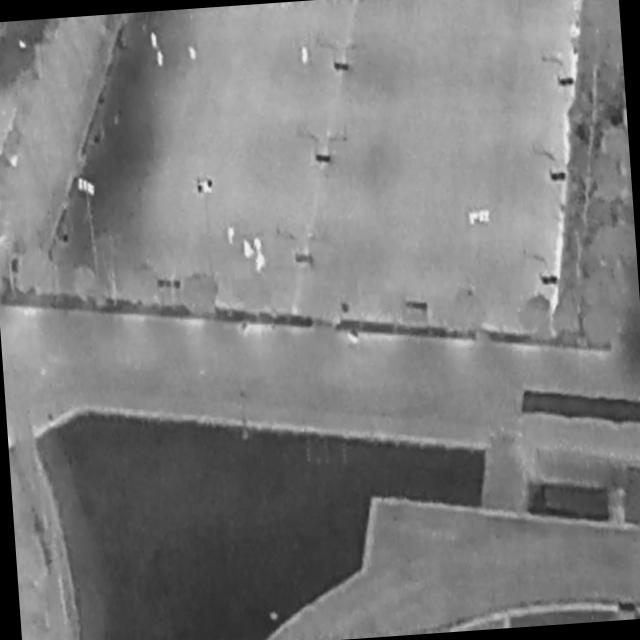person: (244, 238, 255, 259), (257, 253, 268, 273), (254, 236, 263, 254), (301, 47, 310, 65), (228, 226, 236, 245), (189, 46, 198, 62), (157, 52, 165, 68), (151, 34, 159, 49)
